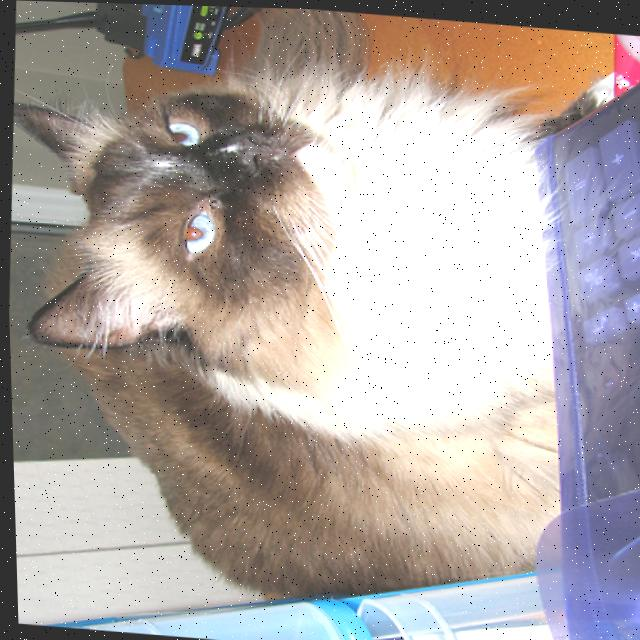Ragdoll: (1, 23, 600, 624)
